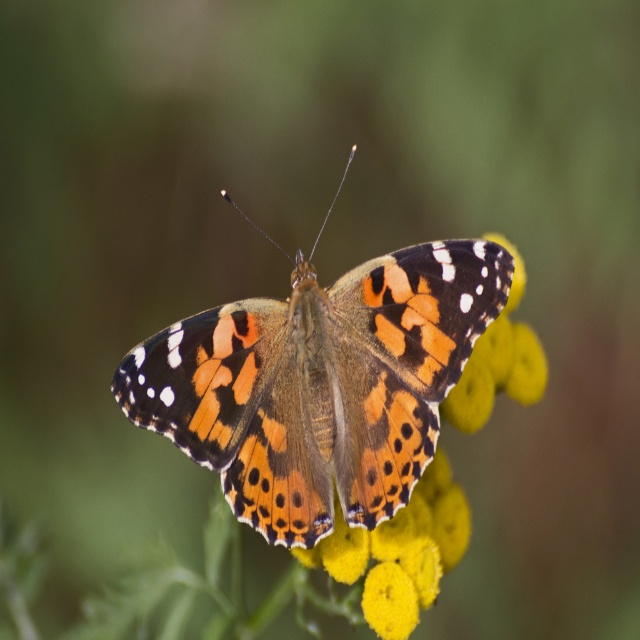Butterfly: (111, 142, 515, 551)
